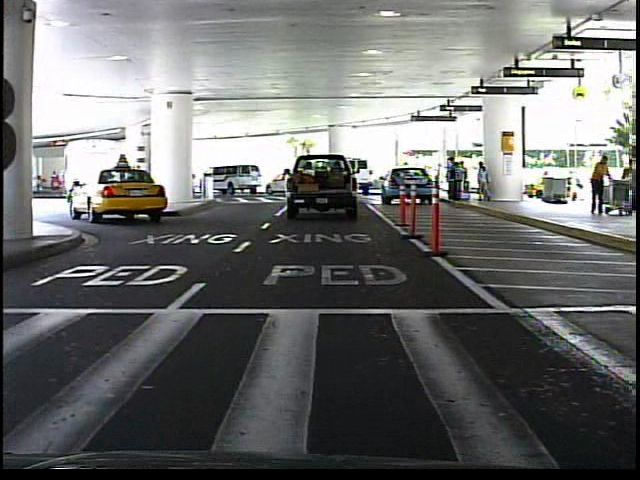person: (588, 151, 616, 219), (620, 157, 639, 214), (399, 158, 414, 194)
